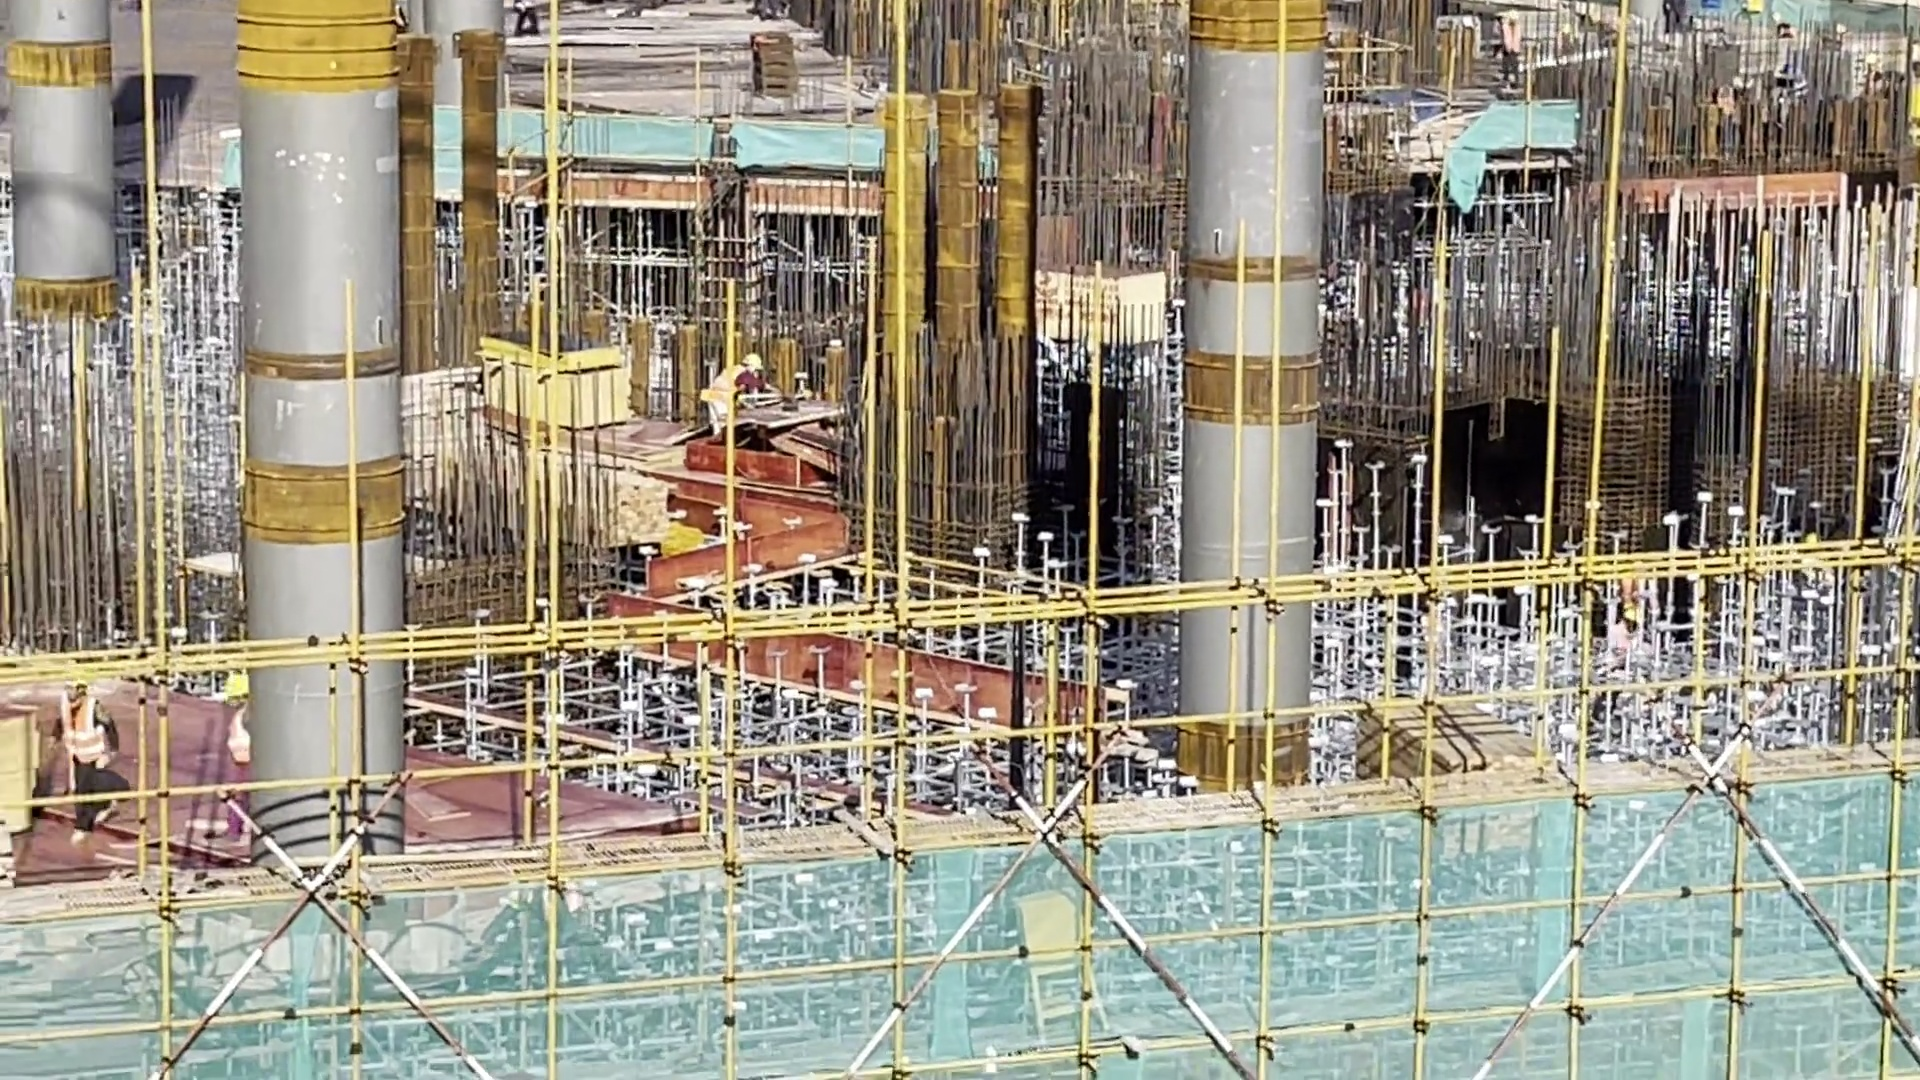helmet: (223, 675, 255, 700), (735, 349, 770, 366), (1502, 5, 1520, 25)
person: (37, 672, 133, 830), (220, 672, 275, 837), (698, 339, 768, 443), (1490, 8, 1526, 96)
vest: (64, 704, 115, 768), (225, 708, 260, 767), (709, 370, 747, 416), (1498, 21, 1517, 53)
